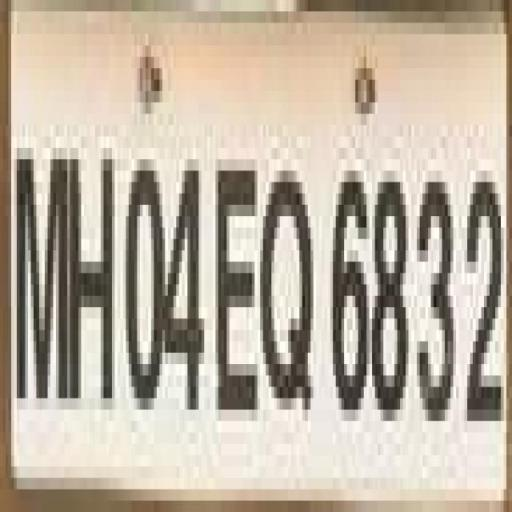number plate: (19, 11, 512, 501)
